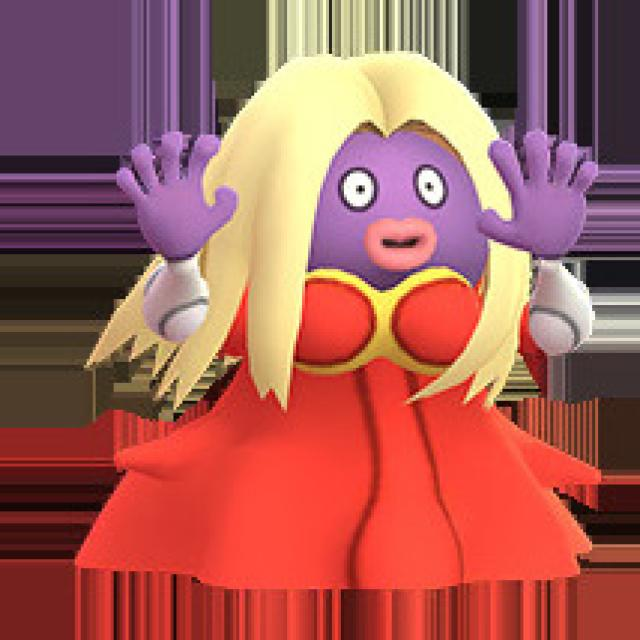Jynx: (127, 57, 604, 554)
